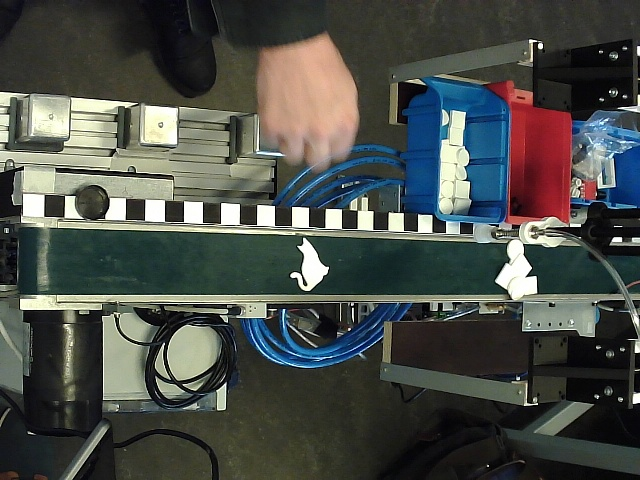cat: (289, 237, 330, 293)
